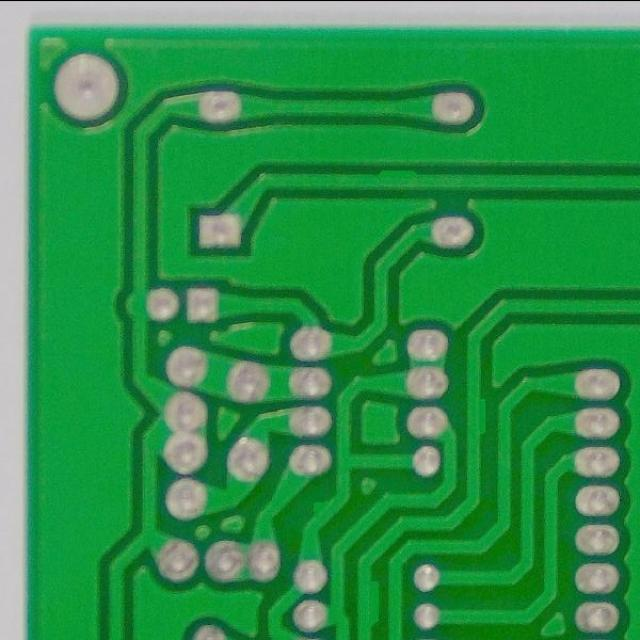spur: (350, 572, 385, 637), (367, 163, 424, 191), (463, 392, 491, 439), (300, 490, 336, 524)
